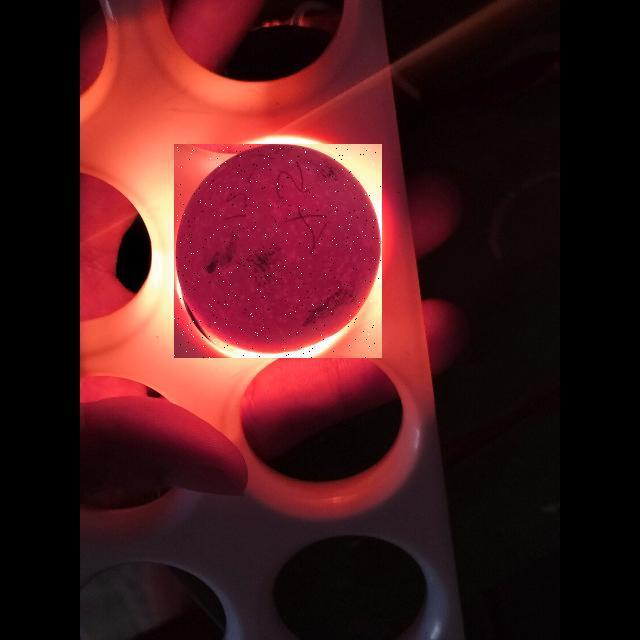AA - Premium: (172, 144, 387, 358)
